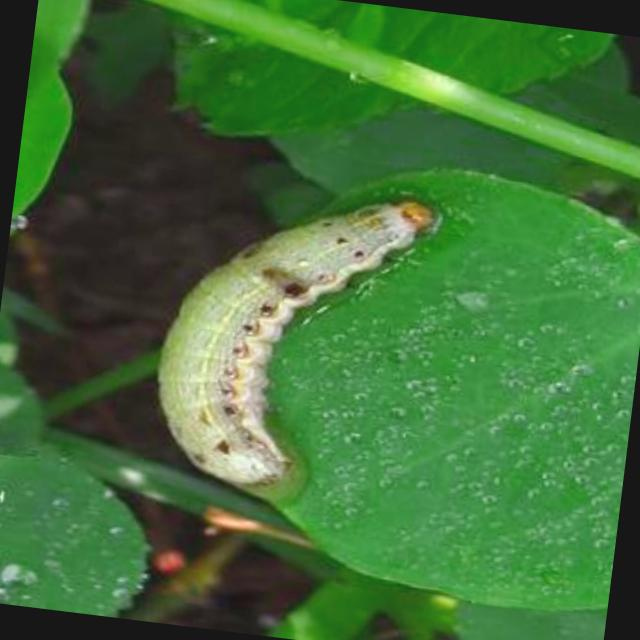Tobacco cutworm: (108, 118, 480, 536)
